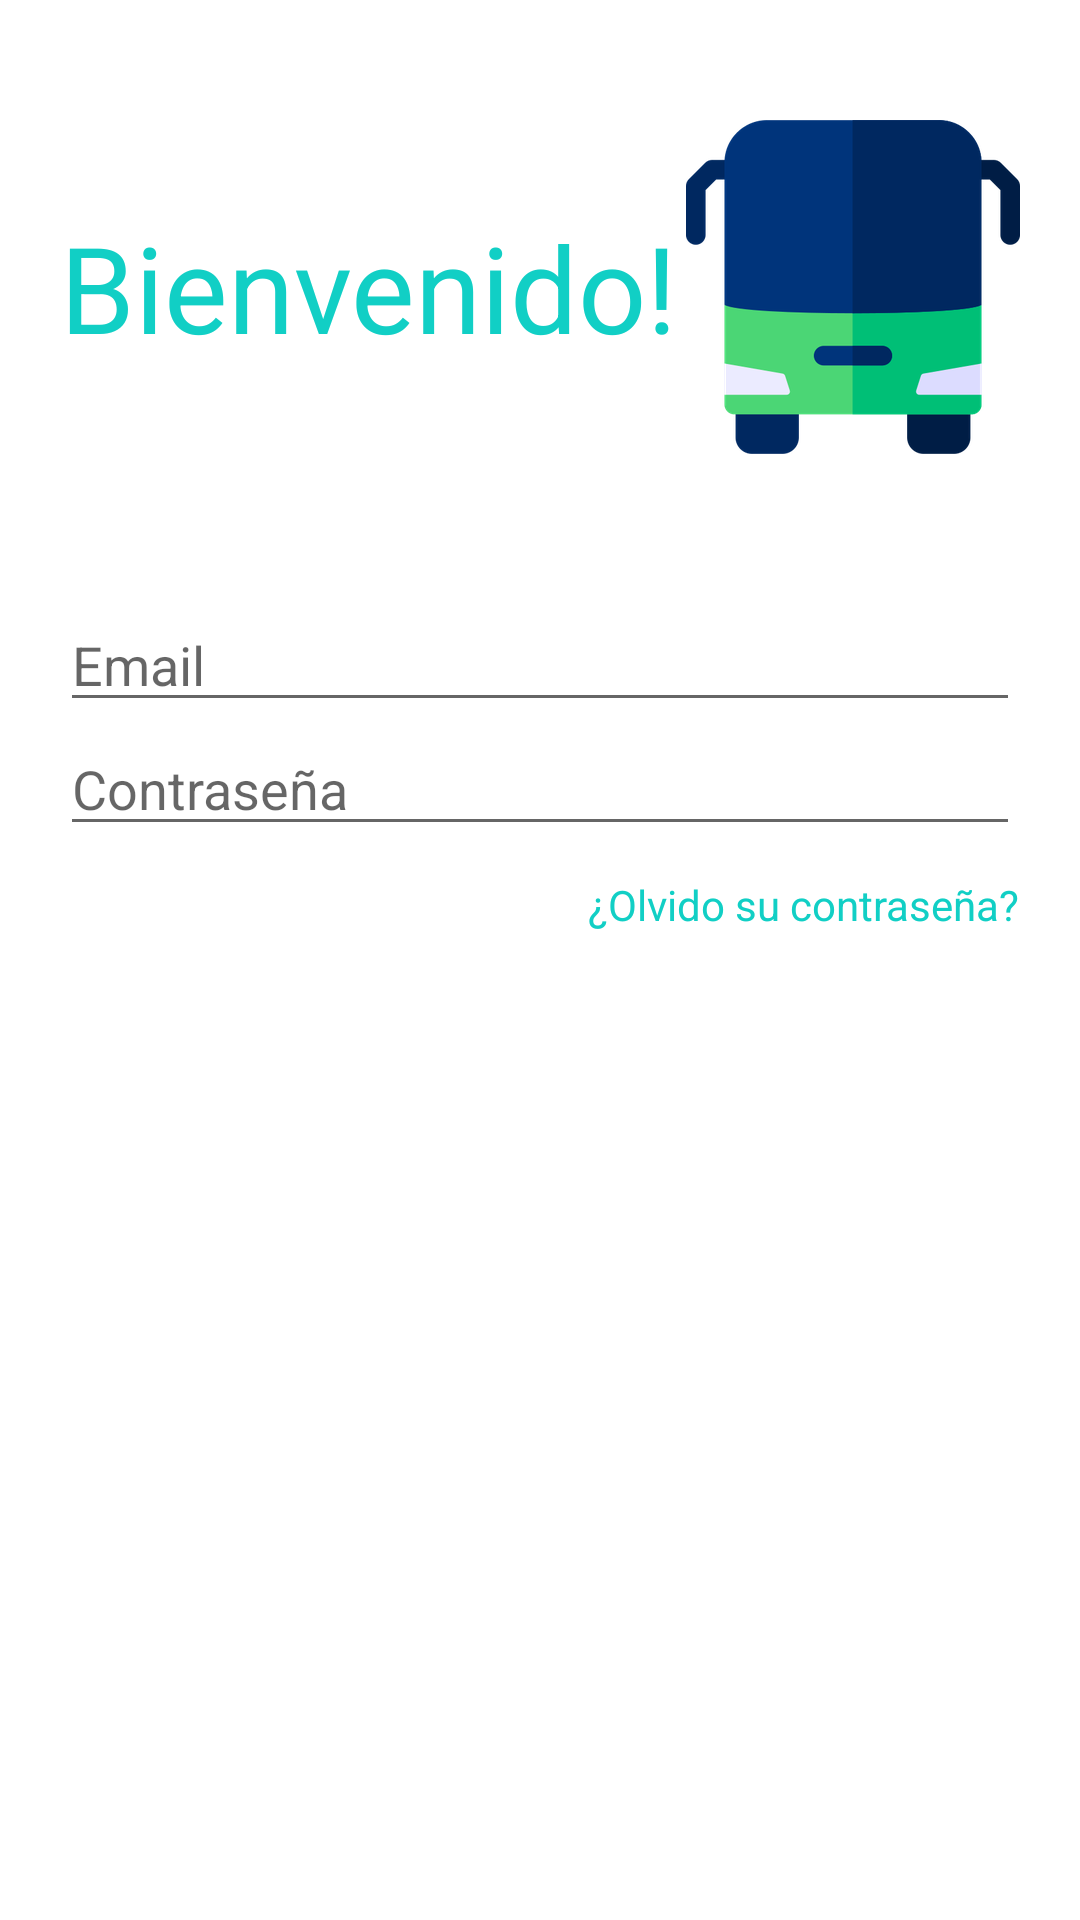

Icons on this 1080px×1920px Android screen, each with the point to tap as point (x, y):
autobus: point (853, 287)
